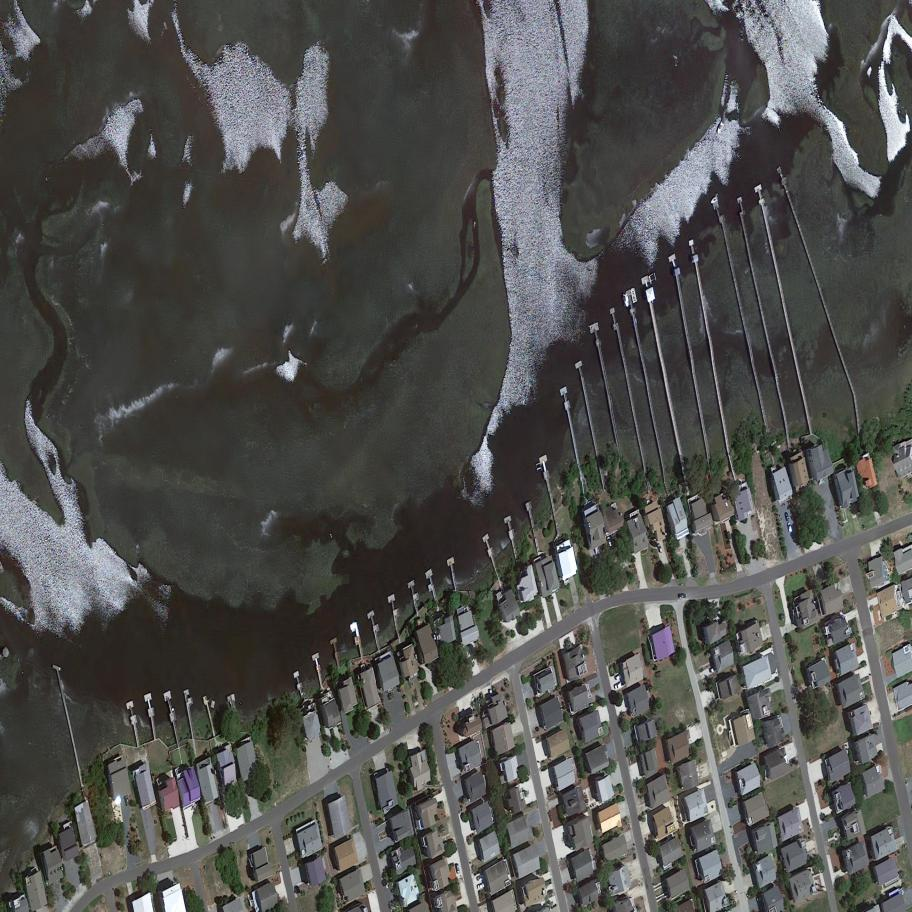ship: (716, 120, 727, 137), (622, 293, 630, 308), (708, 196, 719, 206)
small-vehicle: (613, 682, 625, 691), (123, 792, 130, 807), (786, 522, 793, 535), (614, 673, 623, 681), (657, 543, 663, 554), (607, 536, 612, 548), (676, 593, 686, 599), (477, 883, 485, 890), (455, 863, 460, 874), (476, 875, 484, 881), (785, 511, 789, 521)
